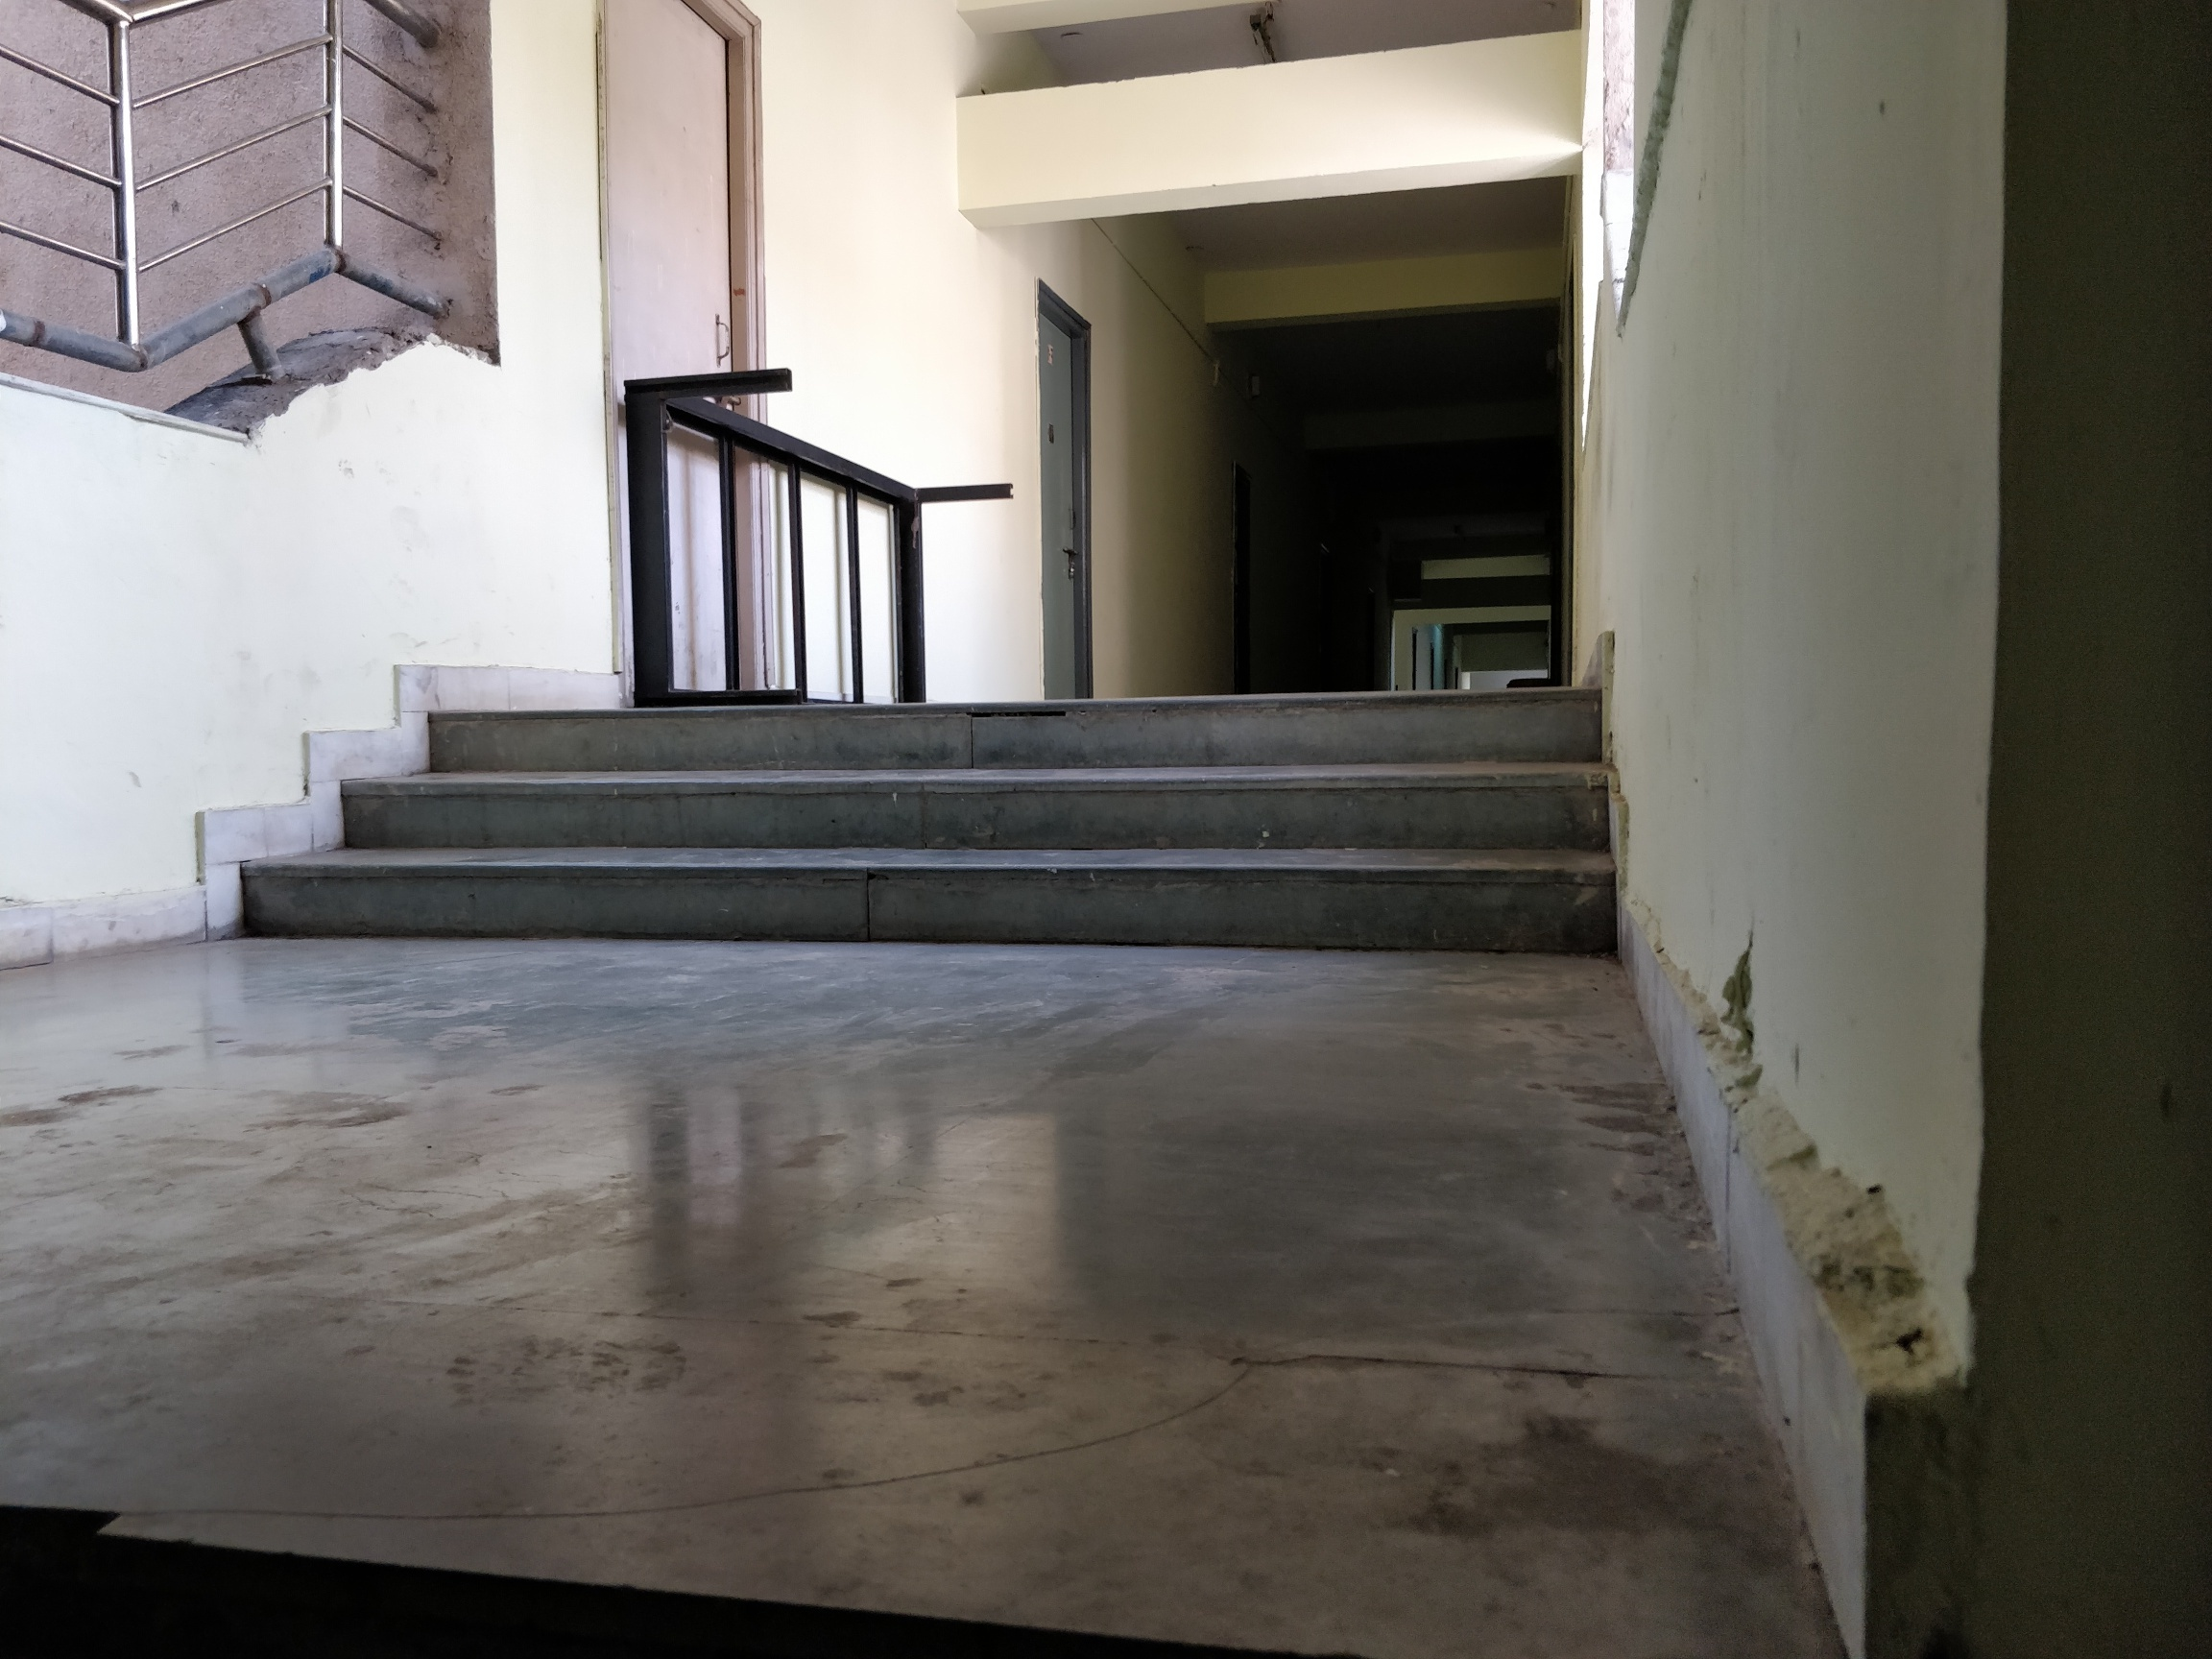stairs_up: (228, 685, 1599, 939)
